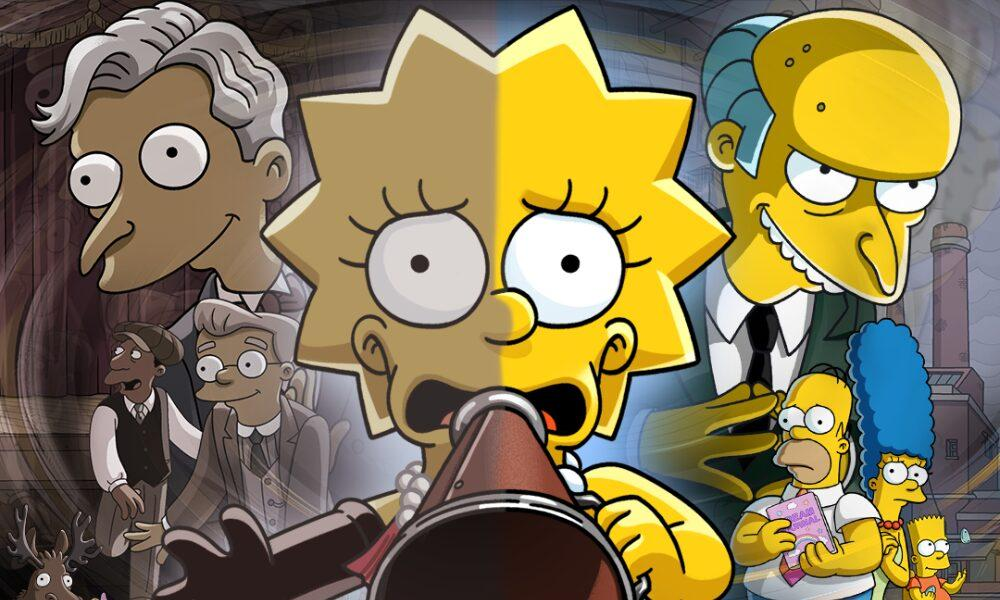Bart: (895, 507, 970, 600)
Homer: (740, 362, 887, 600)
Lisa: (204, 3, 754, 595)
Marge: (841, 313, 930, 599)
